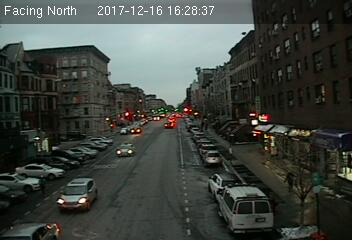car: (58, 176, 99, 211), (207, 171, 244, 198), (115, 142, 137, 157), (204, 152, 222, 165)
police: (216, 180, 274, 235)
